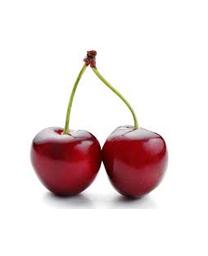cherry: (30, 126, 102, 199), (102, 124, 168, 201)
